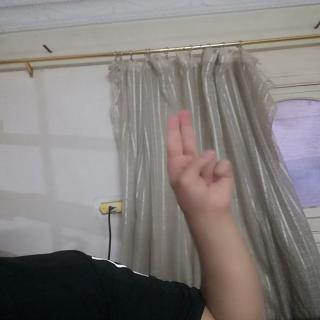TA: (161, 108, 247, 230)
